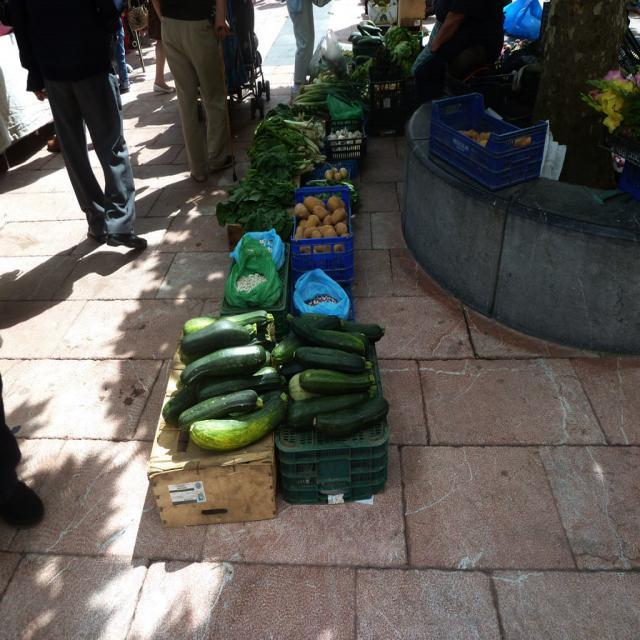Zucchini: (151, 309, 390, 474)
